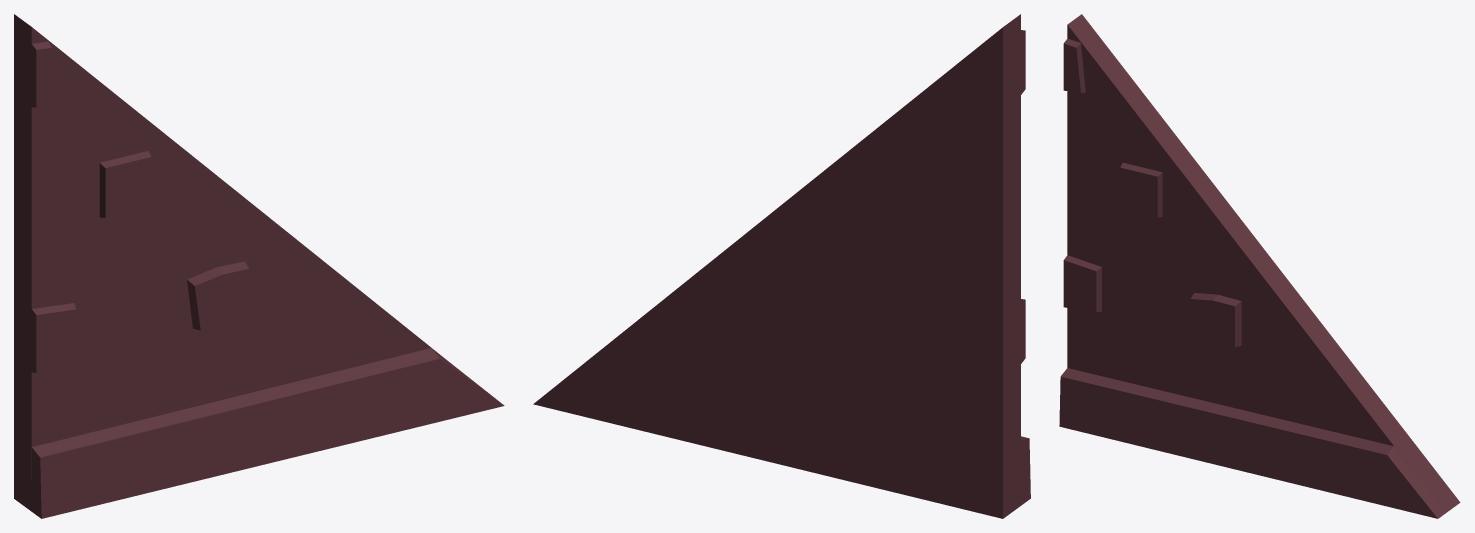
File: SM_Stone_Wall_Verical_R_3x3_Empire.fbx
The picture shows the model from 3 angles, left to right: view 1: azimuth 30°, elevation 25°; view 2: azimuth 150°, elevation 25°; view 3: azimuth 330°, elevation 25°; orthographic projection. The views are drawn at different scales.
Visible parts, largest first — view 1: SM_Stone_Wall_Verical_R_3x3_Empire; view 2: SM_Stone_Wall_Verical_R_3x3_Empire; view 3: SM_Stone_Wall_Verical_R_3x3_Empire.
Boxes of the visible parts, left/top/right/bottom form: SM_Stone_Wall_Verical_R_3x3_Empire: left=14, top=14, right=504, bottom=518; SM_Stone_Wall_Verical_R_3x3_Empire: left=533, top=14, right=1030, bottom=518; SM_Stone_Wall_Verical_R_3x3_Empire: left=1059, top=14, right=1460, bottom=518.
Size of the model in its own units: 3 by 3 by 0.3082.
